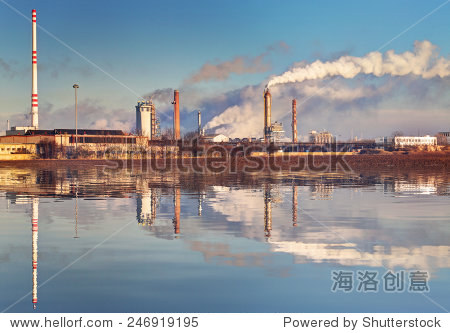dust: (263, 38, 446, 100), (166, 47, 286, 98), (192, 103, 272, 135)
